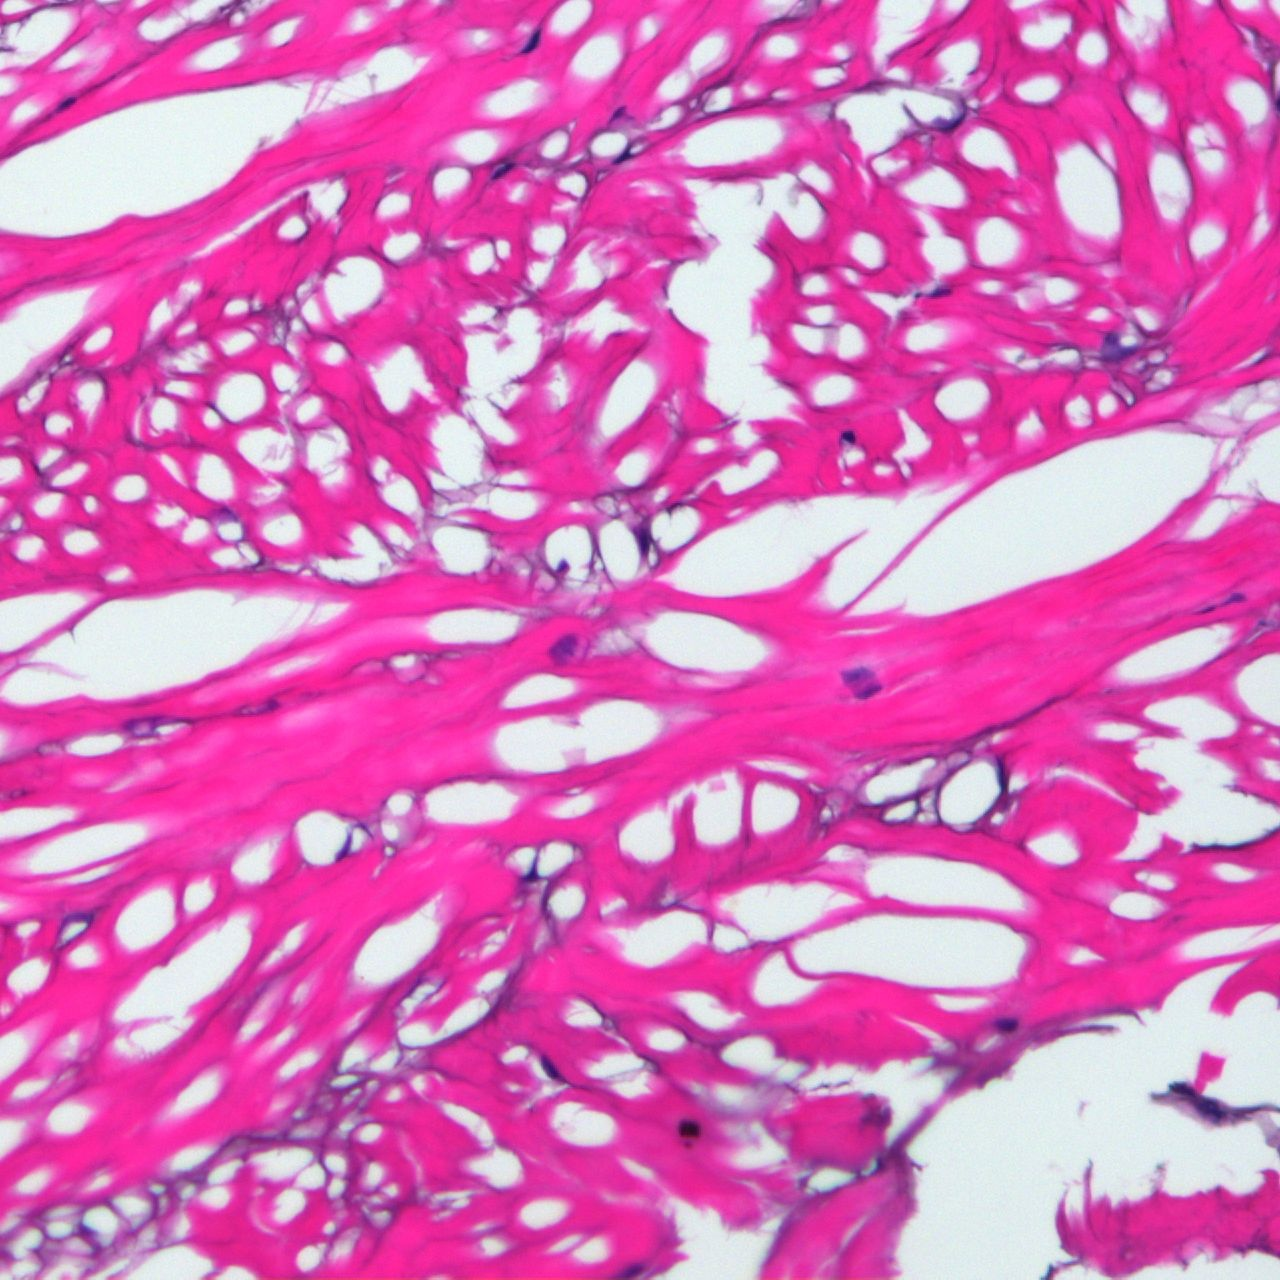nucleus-HE: (518, 26, 547, 57), (838, 662, 874, 686), (536, 1051, 561, 1080), (852, 681, 884, 702), (490, 159, 515, 182), (994, 1015, 1019, 1032), (678, 1119, 700, 1133), (840, 430, 856, 444)
